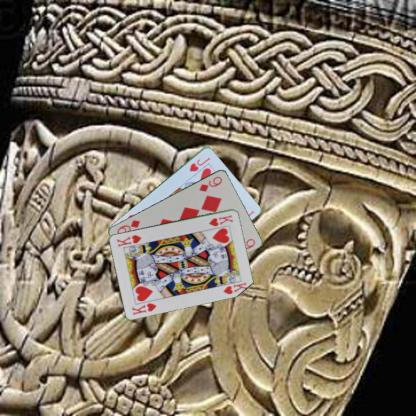9d: (196, 173, 224, 193)
Jh: (186, 154, 212, 173)
Kh: (129, 300, 158, 316), (206, 212, 234, 227)
